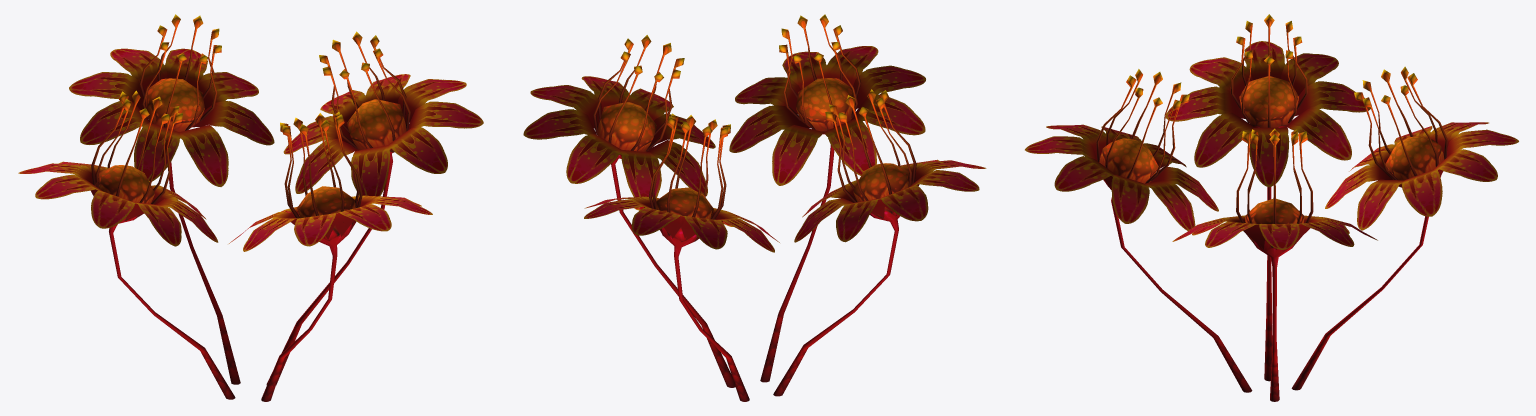
File: Red_Flower_01c.FBX
3 views of the same model, side by side, from view 1: azimuth 30°, elevation 25°; view 2: azimuth 150°, elevation 25°; view 3: azimuth 270°, elevation 25° (orthographic). The views are drawn at different scales.
Parts seen in each view (by area): view 1: Red_Flower_01c; view 2: Red_Flower_01c; view 3: Red_Flower_01c.
Part boxes in pixels (x1,y1,x2,y2): Red_Flower_01c: (18,14,483,401); Red_Flower_01c: (523,14,986,401); Red_Flower_01c: (1025,14,1518,401).
Size of the model in its own units: 116 by 80.95 by 116.
